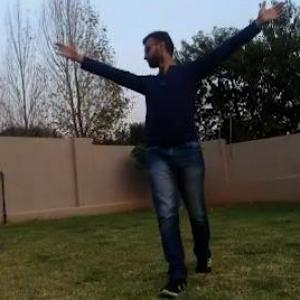takeoff: (31, 0, 256, 299)
